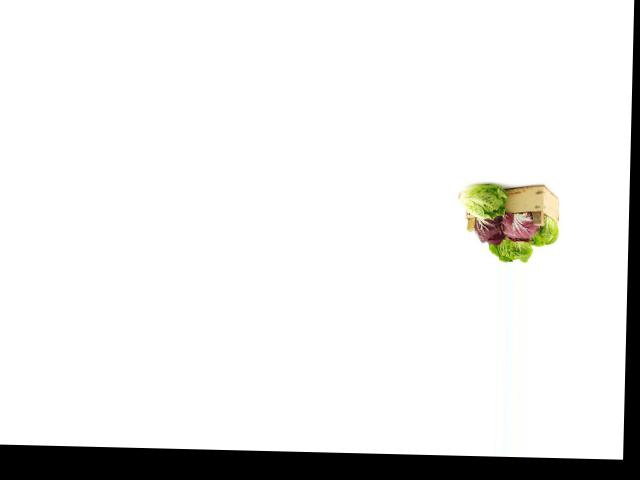lettuce: (488, 231, 533, 263)
